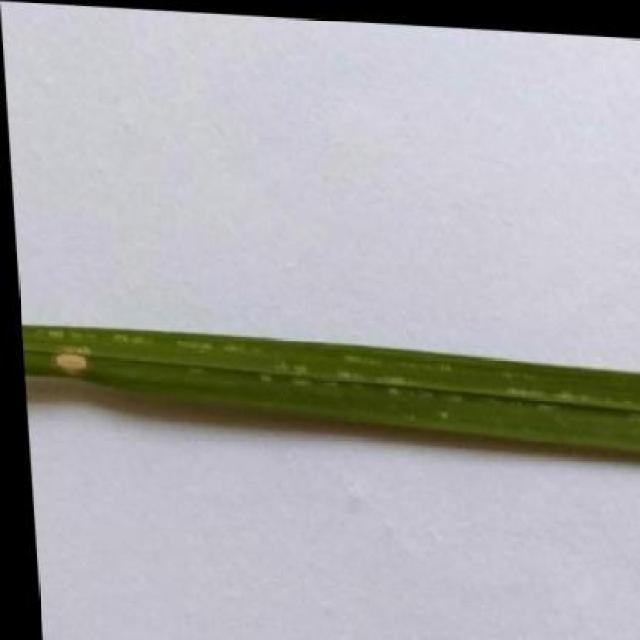Bacterial_Leaf_Blight: (50, 337, 96, 378)
Rice Tungro: (23, 315, 635, 459)
